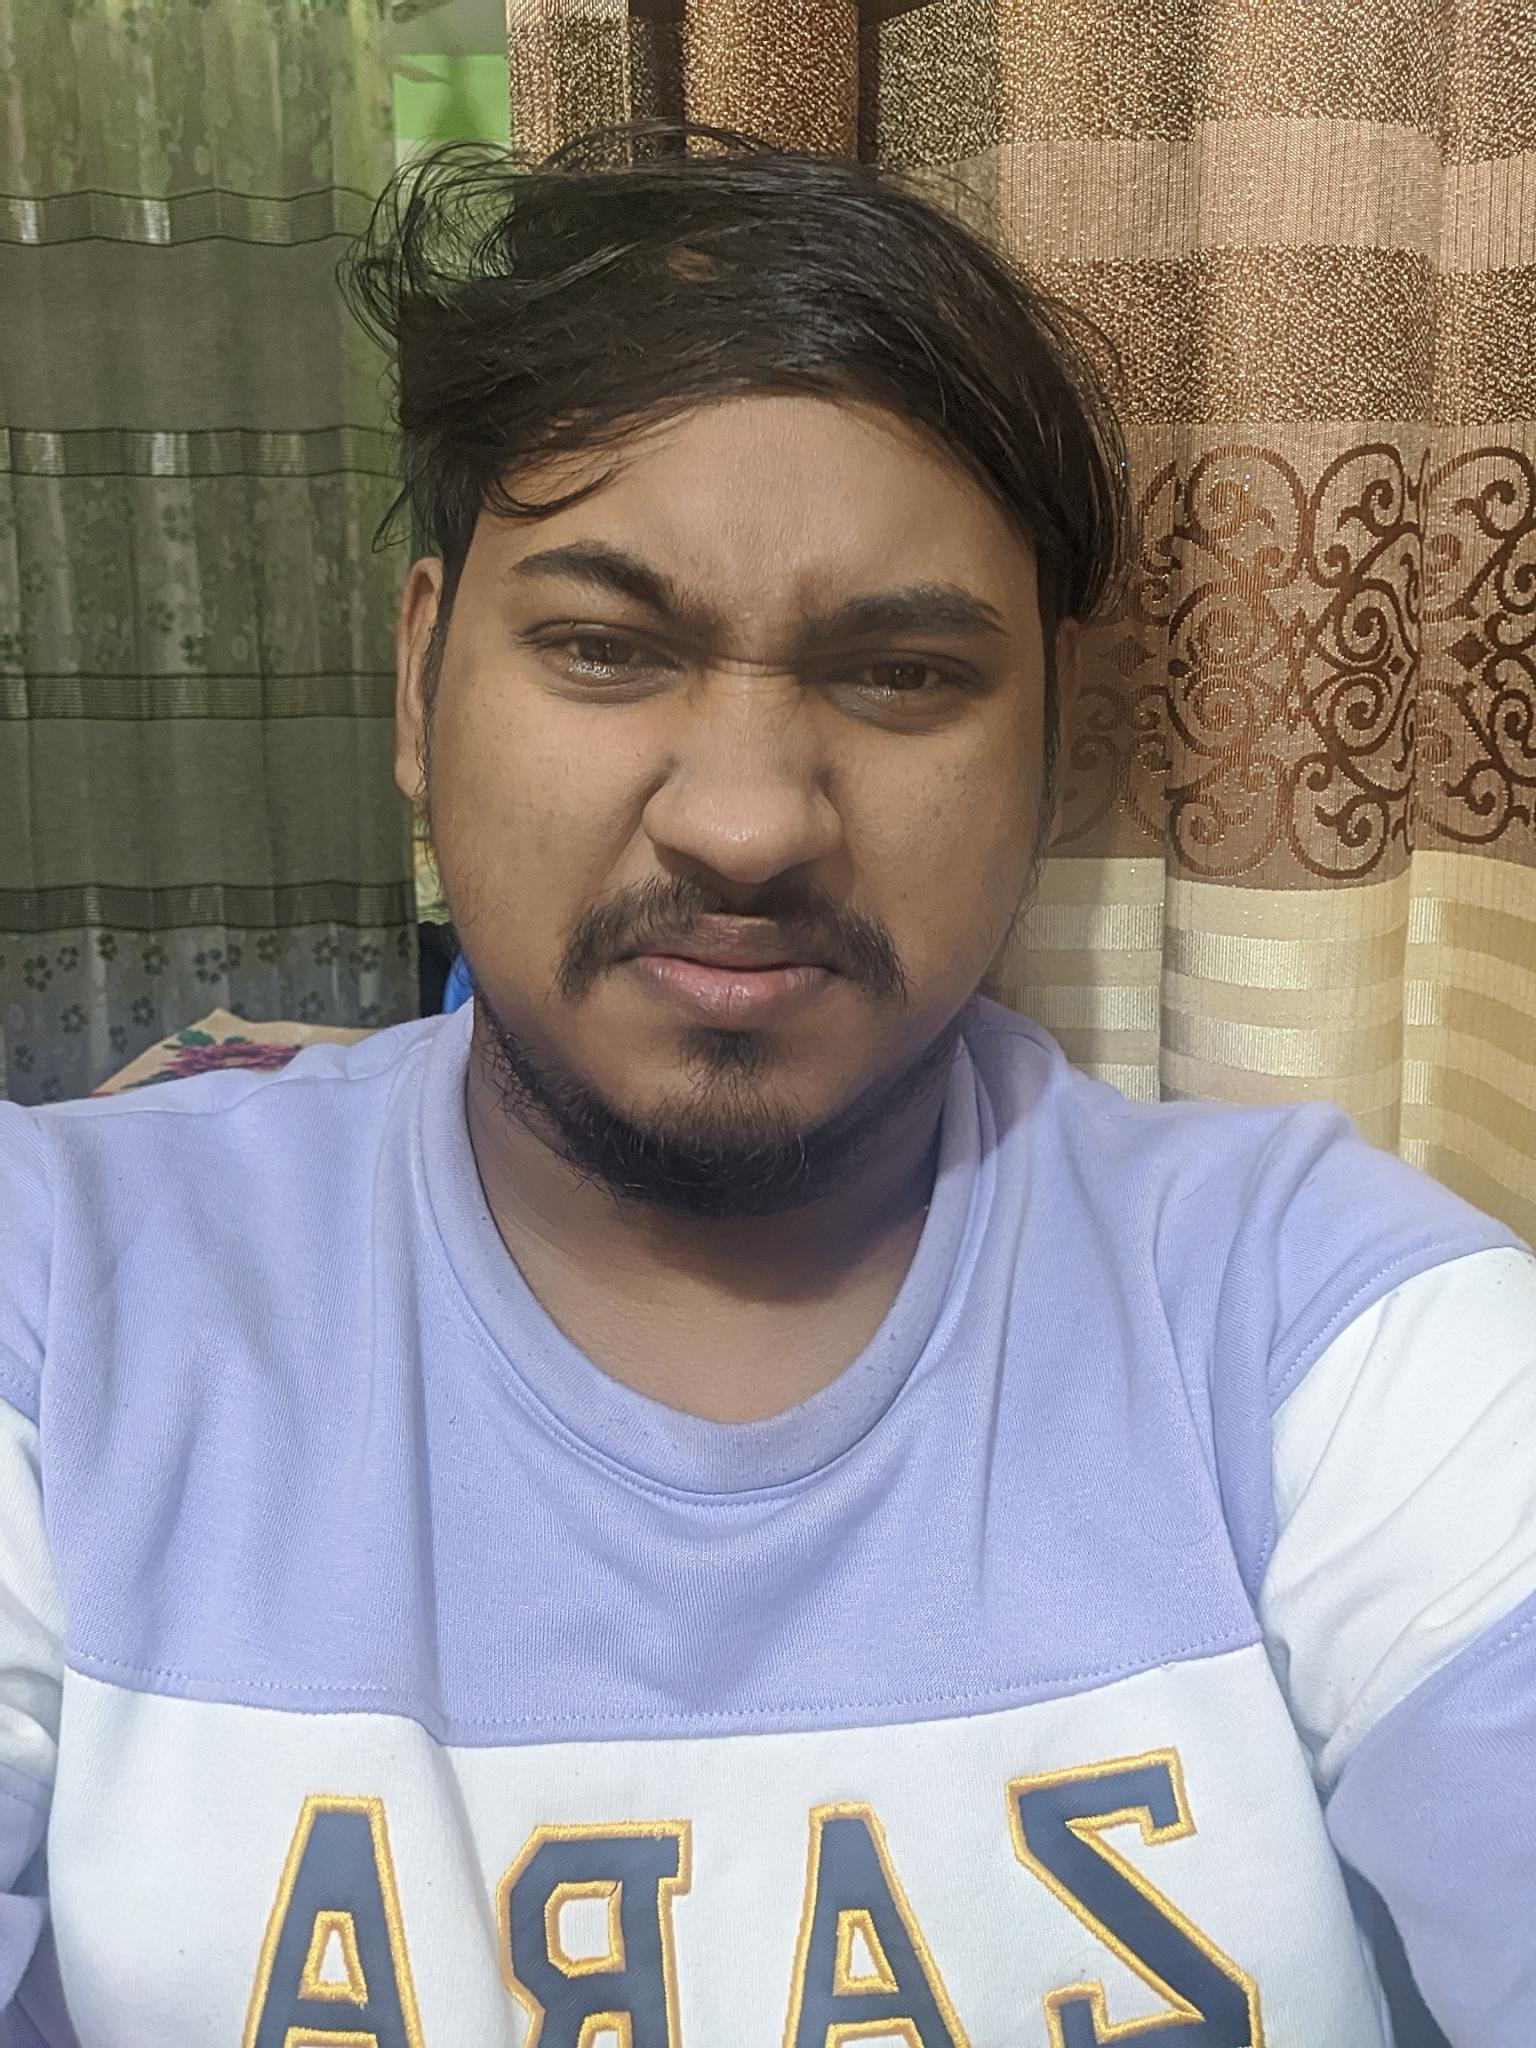Disgust: (481, 468, 1049, 1151)
